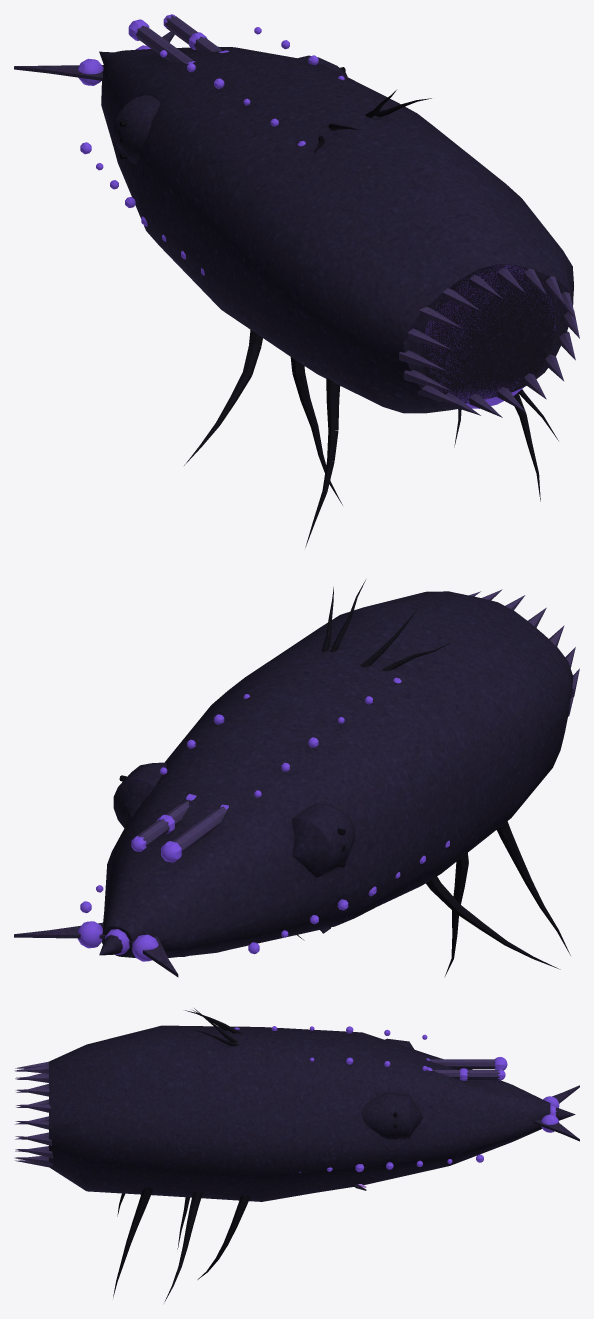
Rendered from void_capital.glb.
3 renders of one model, top to bottom at view 1: azimuth 30°, elevation 25°; view 2: azimuth 150°, elevation 25°; view 3: azimuth 270°, elevation 25°, orthographic. The views are drawn at different scales.
Visible parts, largest first — view 1: HULL, SYS_WPN4, SYS_BUS_A, SYS_DRIVE; view 2: HULL, SYS_WPN4, SYS_DRIVE, SYS_BUS_A, SYS_WPN3, SYS_SENSORS; view 3: HULL, SYS_WPN3, SYS_BUS_A, SYS_DRIVE, SYS_SENSORS.
Boxes of the visible parts, x1,y1,x2,y2 form: HULL: (80,27,579,547); SYS_WPN4: (113,95,160,164); SYS_BUS_A: (128,14,229,63); SYS_DRIVE: (14,31,174,85); HULL: (80,589,579,977); SYS_WPN4: (292,803,354,877); SYS_DRIVE: (14,921,178,977); SYS_BUS_A: (131,794,228,862); SYS_WPN3: (113,762,166,827); SYS_SENSORS: (322,580,451,670); HULL: (14,1025,550,1301); SYS_WPN3: (361,1092,423,1139); SYS_BUS_A: (426,1057,507,1080); SYS_DRIVE: (533,1085,579,1141); SYS_SENSORS: (185,1008,242,1046).
Size of the model in its own units: 56.68 by 61.85 by 119.
1 material, 1 textured.
